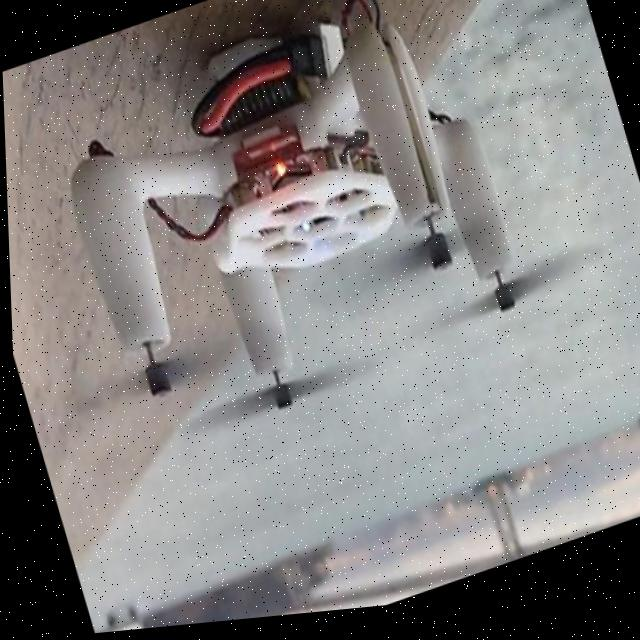drones: (0, 0, 588, 515)
